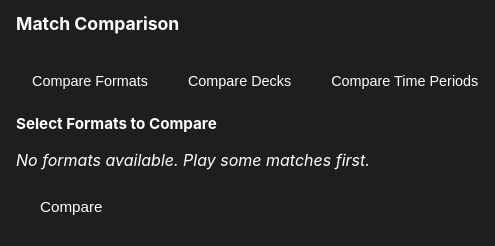
Test: MatchComparisonPanel › comparison type selection › switches to decks selector
This screenshot has width=495, height=246.
Step 1. Click the button "Compare Decks" → (240, 81), box [172,65,307,97]
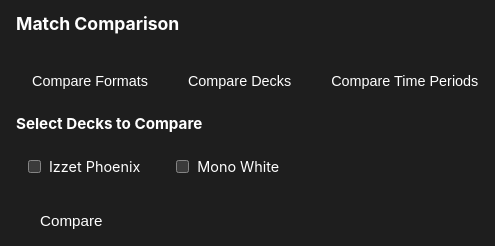
Now the heading "Select Decks to Compare" is shown, box [16,114,202,133]
